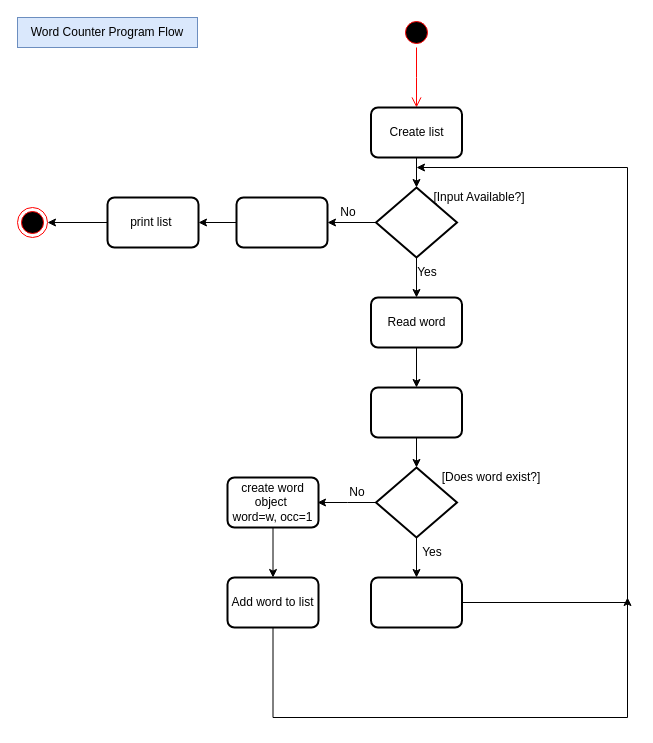
This 653x743 diagram has some shape labels left out. The shapes that lost their labels are listed below. From the top down, each one's centre as x and y in pixels, then its label:
the point at 281,222: sort List
the point at 416,412: Filter word
the point at 416,602: Increment occurence
